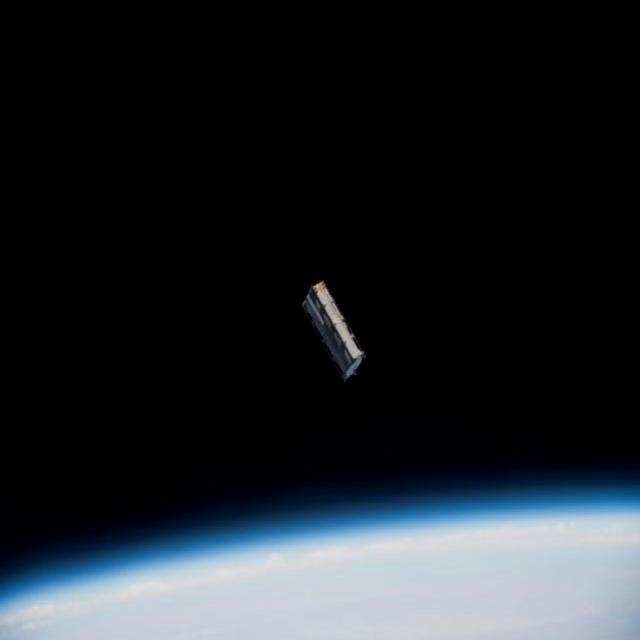medium_debris: (301, 280, 365, 381)
